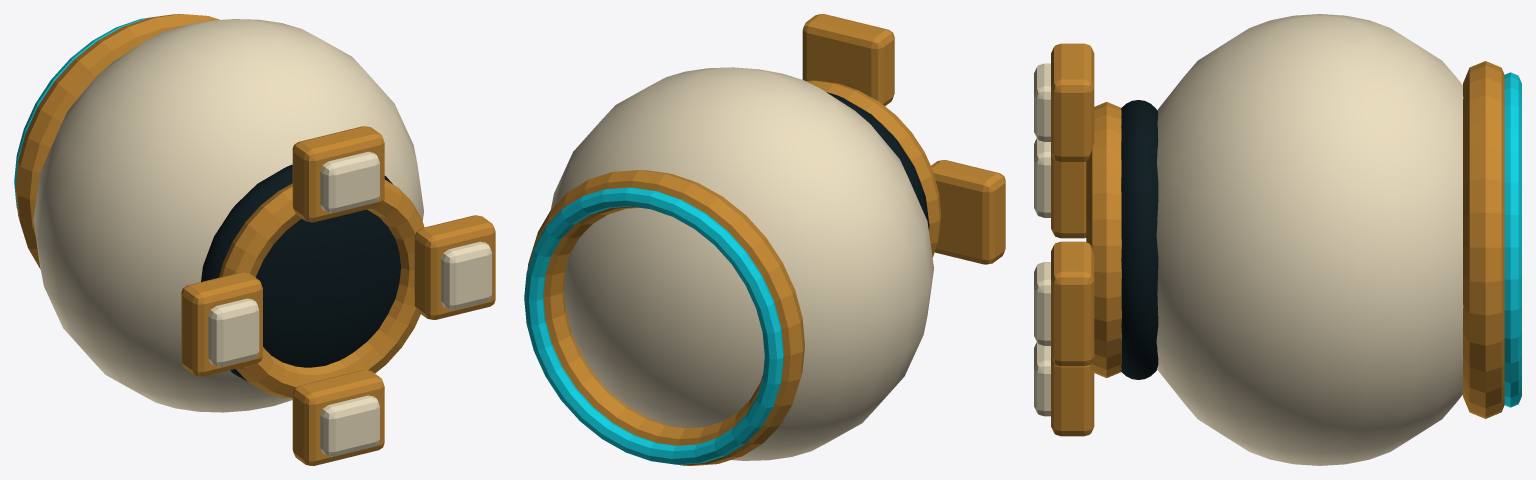
Rendered from FearWormHead_1.obj.
3 renders of one model, left to right at view 1: azimuth 30°, elevation 25°; view 2: azimuth 150°, elevation 25°; view 3: azimuth 270°, elevation 25°, orthographic. The views are drawn at different scales.
Parts seen in each view (by area): view 1: Armoured_head; view 2: Armoured_head; view 3: Armoured_head.
Part boxes in pixels (<box>): Armoured_head: <box>14,14,495,465</box>; Armoured_head: <box>524,14,1005,465</box>; Armoured_head: <box>1034,14,1521,465</box>.
Bounding box in the file's own units: 2 × 2 × 2.15.
1 material, 1 textured.
